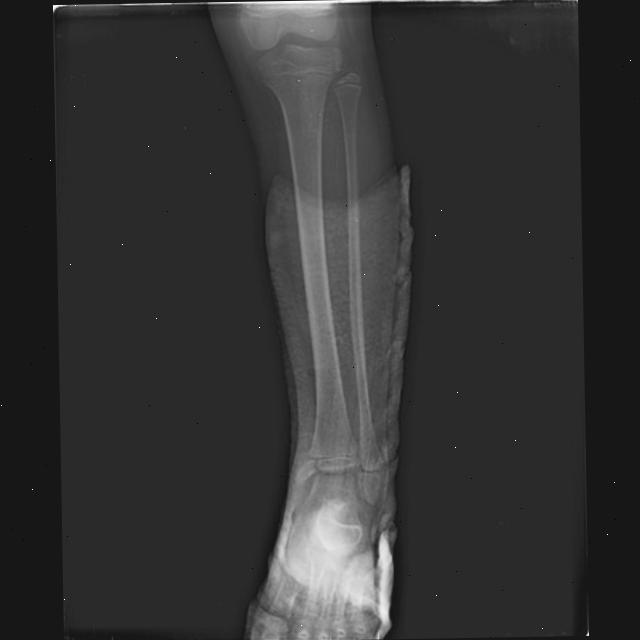fractured: (291, 445, 326, 490)
